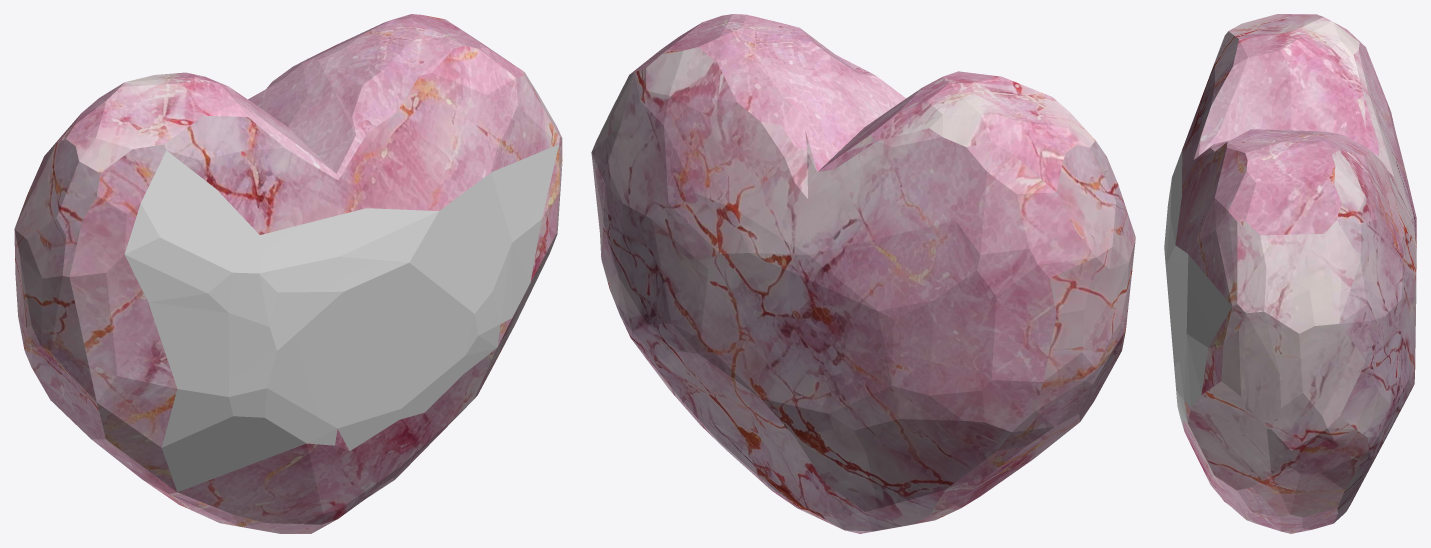
Rendered from stones4.glb.
3 renders of one model, left to right at view 1: azimuth 30°, elevation 25°; view 2: azimuth 150°, elevation 25°; view 3: azimuth 270°, elevation 25°, orthographic. The views are drawn at different scales.
Visible parts, largest first — view 1: Heart; view 2: Heart; view 3: Heart.
Part boxes in pixels (box(x1,y1,x2,y2)): Heart: box(14, 14, 562, 533); Heart: box(591, 14, 1135, 533); Heart: box(1164, 14, 1416, 533).
Size of the model in its own units: 3.58 by 3.09 by 1.6.
2 materials, 1 textured.
